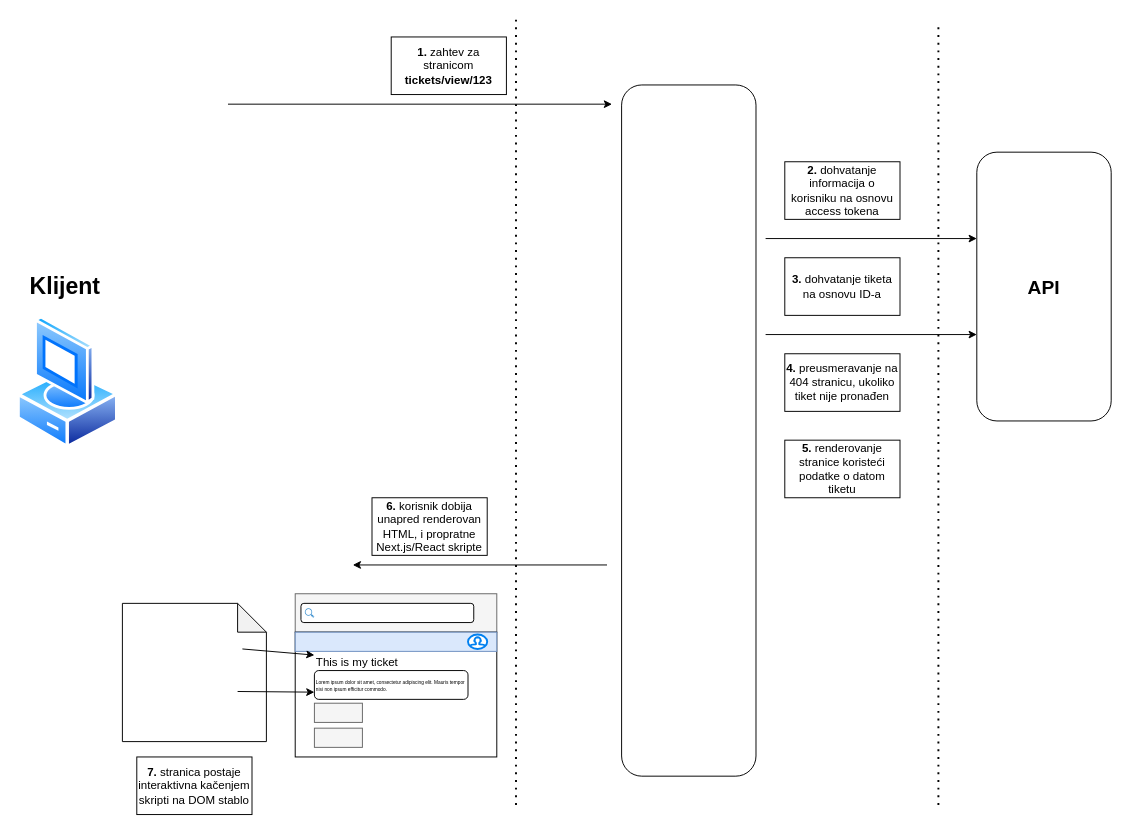
Image size: 1128x831. Some labels were removed from this diagram. Each missing label, with the box of its shape:
<TicketHeading> </TicketHeading> <TicketBody> </TicketBody>: (121, 602, 266, 742)
Next.js server: (621, 84, 756, 776)
